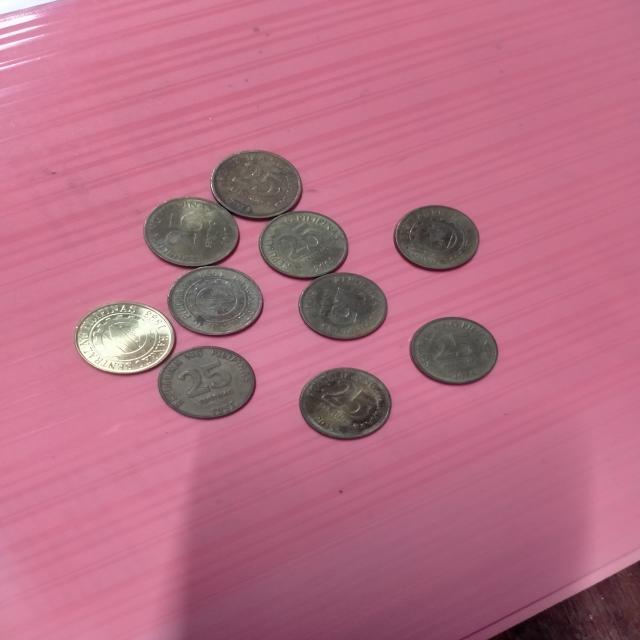25Cent_Old_Back: (77, 305, 174, 373)
